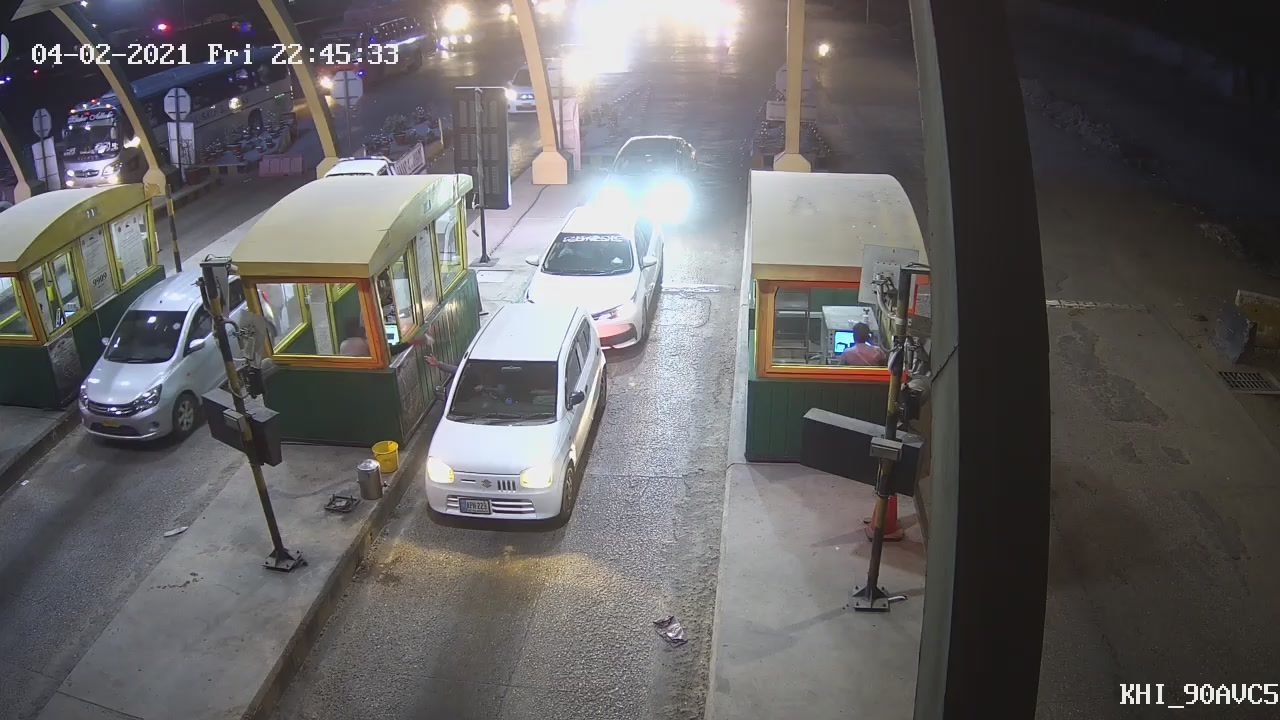F1: (420, 301, 610, 535)
